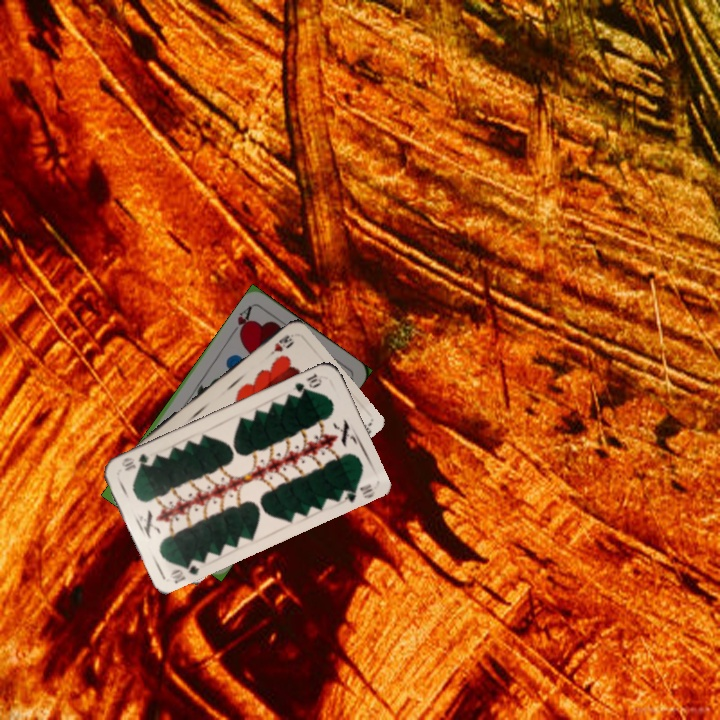G10: (165, 555, 202, 586), (291, 368, 325, 397)
H10: (261, 331, 294, 362)
HA: (227, 302, 255, 339)
